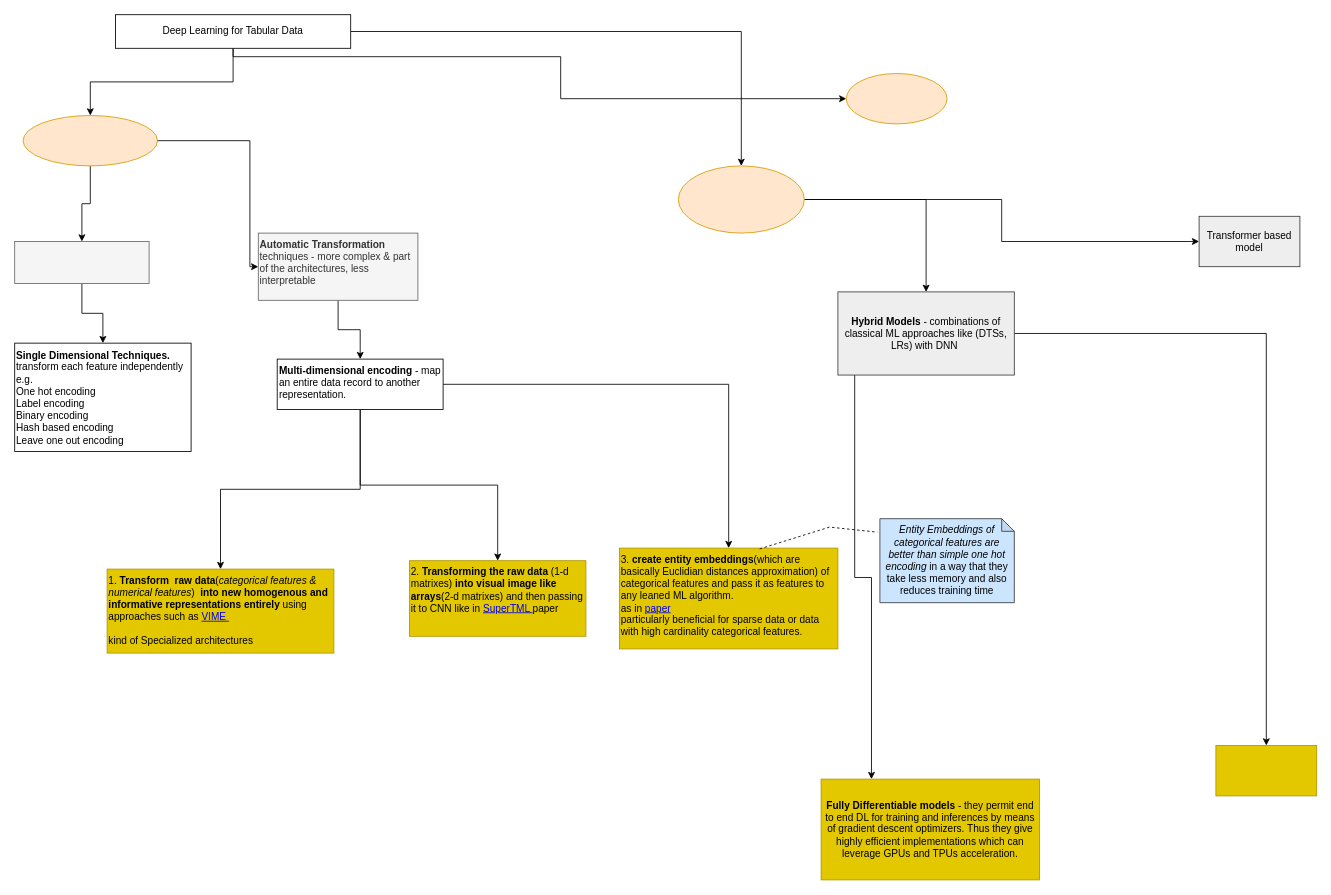
Some shapes in this 1331 by 895 pixel diagram are drawn without their labels. Each missing label, with the centre of its shape:
"Data Transformation/Encoding Techniques" goes at (90,140).
"Deterministic Techniques - to be used before training the model" goes at (81,262).
"Partly Differentiable Models" goes at (1266,770).
"Regularization Models" goes at (896,98).
"Specialized end-to-end DNN Architectures for tabular data" goes at (740,199).
